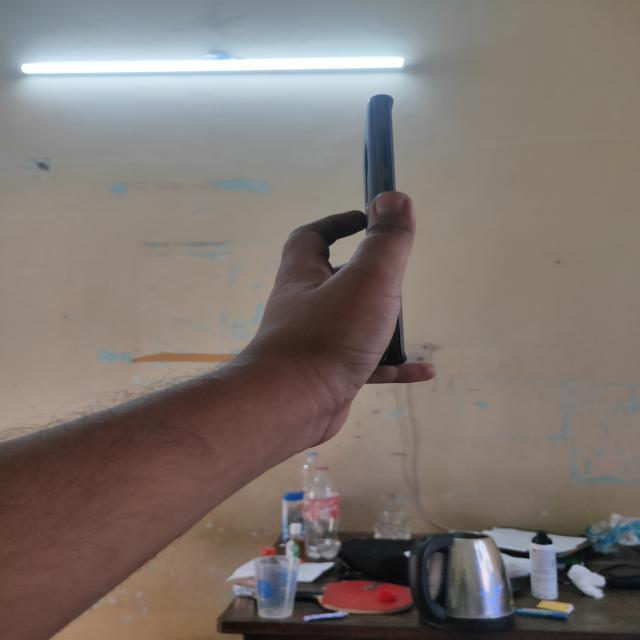Phone: (360, 92, 407, 376)
